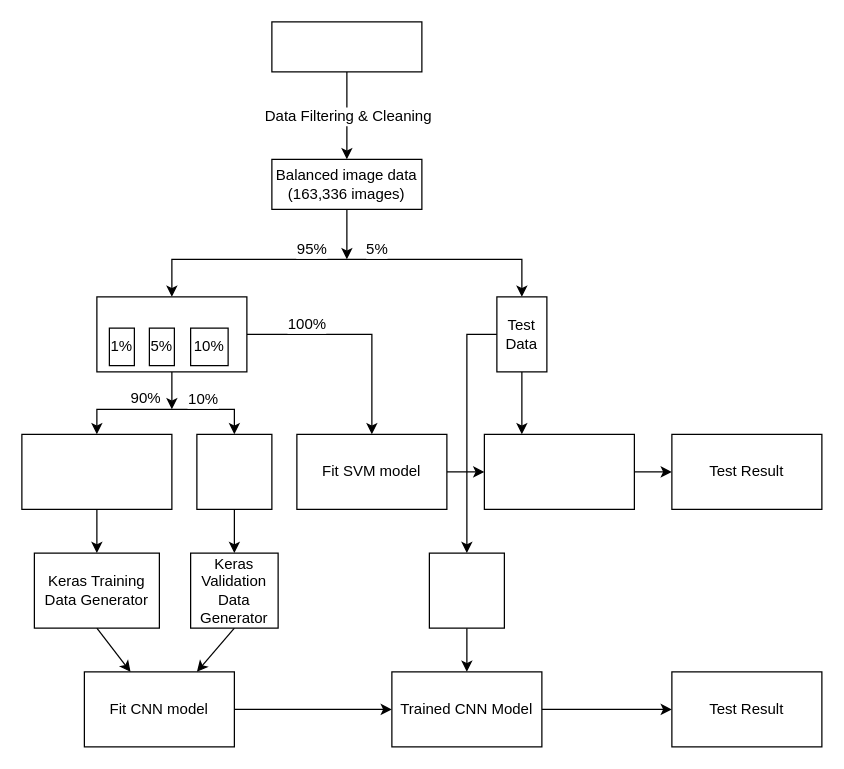
Image size: 844x769. Some labels were removed from this diagram. Each missing label, with the box of its shape:
Keras Test Data Generator: (428, 552, 504, 628)
Raw image data ( 452,261 images): (271, 21, 422, 72)
Trained SVM model: (483, 433, 634, 509)
Training Data: (96, 296, 247, 372)
Training Set: (21, 433, 172, 509)
Validation Set: (196, 433, 272, 509)
